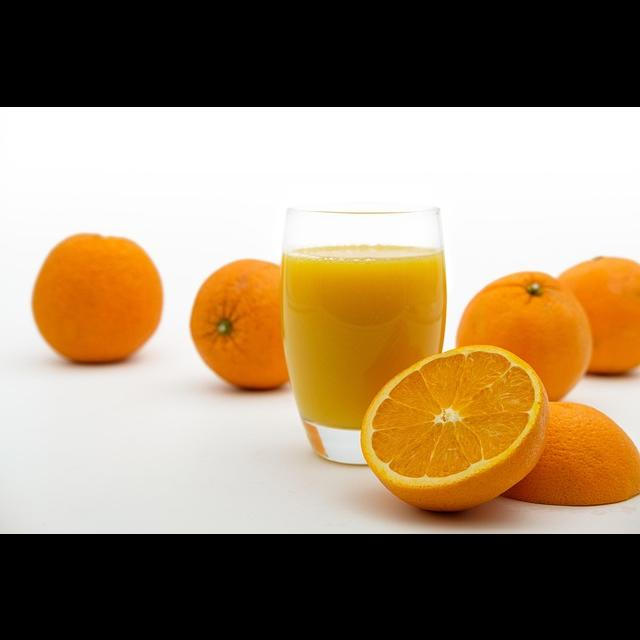orange: (365, 337, 545, 508), (18, 218, 173, 374), (186, 241, 334, 399), (444, 250, 584, 407), (476, 401, 640, 509), (548, 238, 640, 375), (95, 194, 99, 223)
